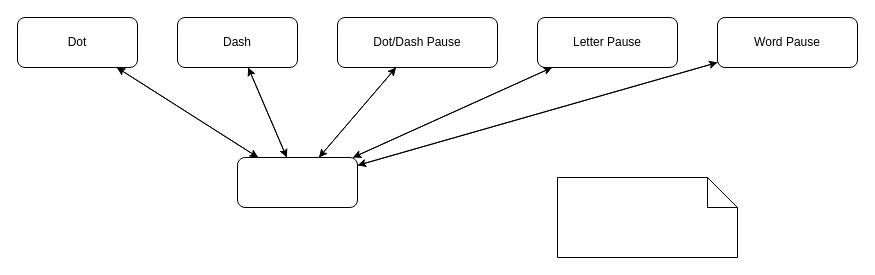
The diagram is 875 pixels wide and 275 high, and some of its shapes have lost their labels. The shapes that lost their labels are listed below. From the top down, each one's centre as x and y in pixels, then its label:
the point at 297,182: Off
the point at 647,217: Button Press toggleMessage() SOS ↔ OK
